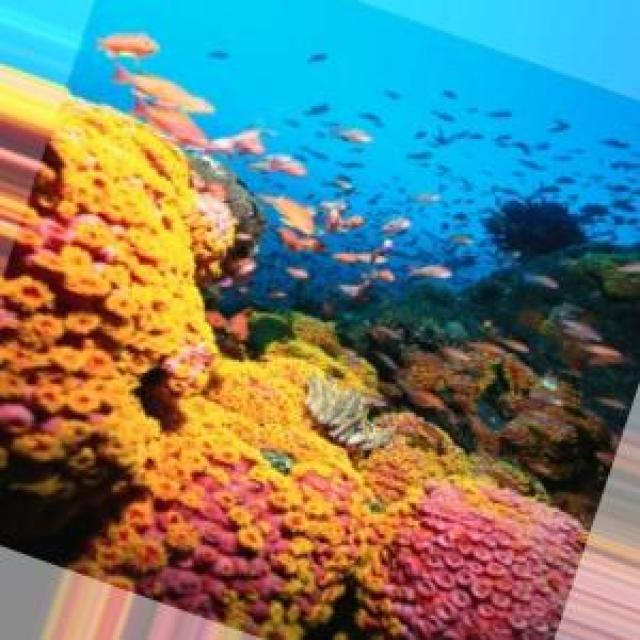healthy coral: (0, 67, 582, 638), (0, 100, 224, 561), (75, 422, 358, 638), (358, 442, 585, 639)
